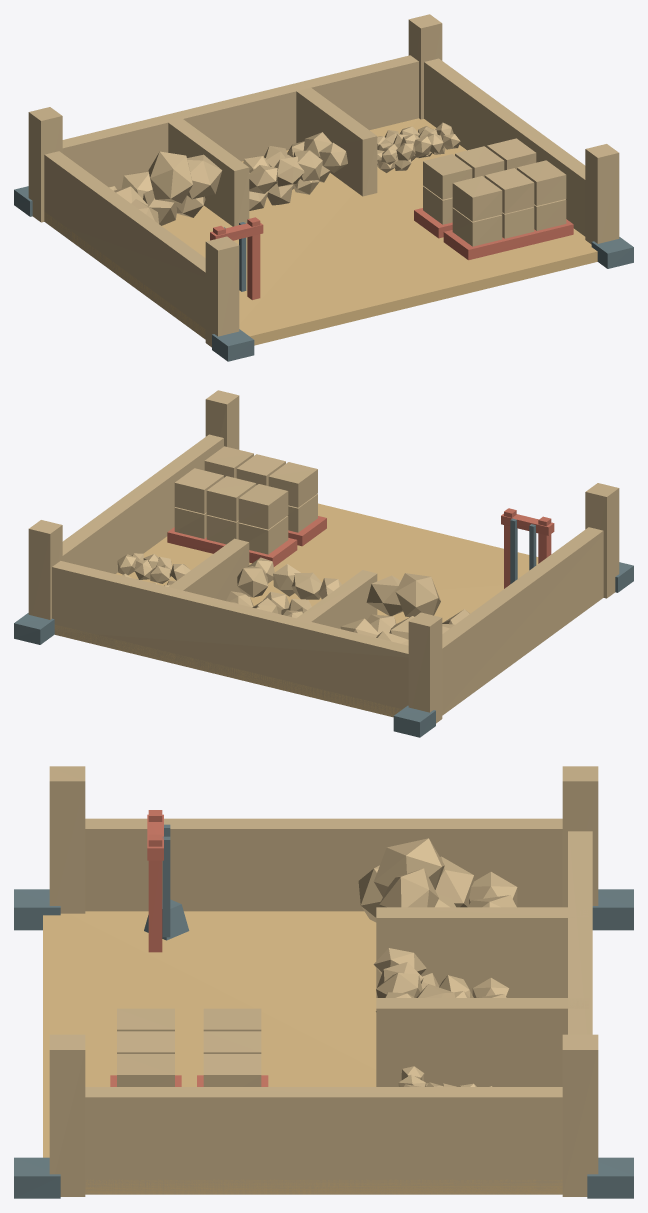
Rendered from Stone-Yard.glb.
3 views of the same model, one above another, from view 1: azimuth 30°, elevation 25°; view 2: azimuth 150°, elevation 25°; view 3: azimuth 270°, elevation 25° (orthographic). The views are drawn at different scales.
Parts seen in each view (by area): view 1: stone-yard-static-stone-yard-dressed-stone-mat, stone-yard-static-stone-yard-compacted-earth-mat, stone-yard-static-stone-yard-quarry-stone-mat, stone-yard-static-stone-yard-weathered-timber-mat, stone-yard-static-stone-yard-dark-iron-mat; view 2: stone-yard-static-stone-yard-dressed-stone-mat, stone-yard-static-stone-yard-compacted-earth-mat, stone-yard-static-stone-yard-quarry-stone-mat, stone-yard-static-stone-yard-weathered-timber-mat, stone-yard-static-stone-yard-dark-iron-mat; view 3: stone-yard-static-stone-yard-dressed-stone-mat, stone-yard-static-stone-yard-compacted-earth-mat, stone-yard-static-stone-yard-quarry-stone-mat, stone-yard-static-stone-yard-dark-iron-mat, stone-yard-static-stone-yard-weathered-timber-mat.
Boxes of the visible parts, x1,y1,x2,y2 form: stone-yard-static-stone-yard-dressed-stone-mat: (28,14,619,347); stone-yard-static-stone-yard-compacted-earth-mat: (44,118,597,345); stone-yard-static-stone-yard-quarry-stone-mat: (108,122,460,225); stone-yard-static-stone-yard-weathered-timber-mat: (210,208,573,299); stone-yard-static-stone-yard-dark-iron-mat: (14,186,633,361); stone-yard-static-stone-yard-dressed-stone-mat: (28,390,619,723); stone-yard-static-stone-yard-compacted-earth-mat: (54,503,538,717); stone-yard-static-stone-yard-quarry-stone-mat: (117,553,469,645); stone-yard-static-stone-yard-weathered-timber-mat: (167,508,554,588); stone-yard-static-stone-yard-dark-iron-mat: (14,518,633,737); stone-yard-static-stone-yard-dressed-stone-mat: (49,766,598,1196); stone-yard-static-stone-yard-compacted-earth-mat: (43,911,562,1194); stone-yard-static-stone-yard-quarry-stone-mat: (358,838,517,1086); stone-yard-static-stone-yard-dark-iron-mat: (14,824,633,1198); stone-yard-static-stone-yard-weathered-timber-mat: (110,810,268,1086).
Size of the model in its own units: 4.94 by 1.18 by 4.51.
